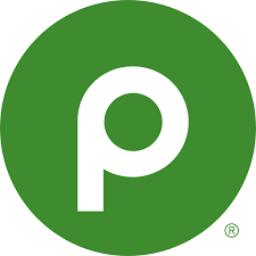p: (68, 56, 196, 216)
